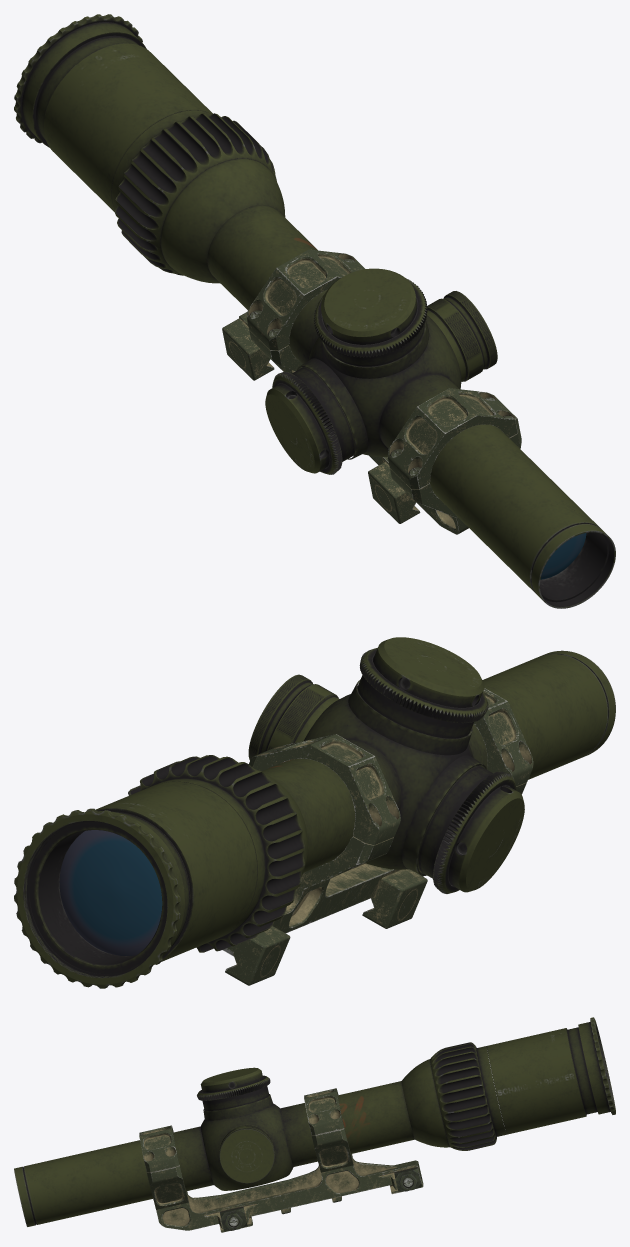
File: schmidt__bender_1-8x_camo.glb
3 views of the same model, one above another, from view 1: azimuth 30°, elevation 25°; view 2: azimuth 150°, elevation 25°; view 3: azimuth 270°, elevation 25° (orthographic). The views are drawn at different scales.
Visible parts, largest first — view 1: mainLow, cryPres.002, midRegulatorLow, upRollerLow, rollerMainLow, backOcularLow, lowRoller, Lensens; view 2: mainLow, cryPres.002, backOcularLow, midRegulatorLow, upRollerLow, Lensens, rollerMainLow, lowRoller; view 3: mainLow, cryPres.002, midRegulatorLow, backOcularLow, lowRoller, rollerMainLow, upRollerLow, cryPresPart.002.
Part boxes in pixels (x1,y1,x2,y2): mainLow: (43,43,615,608); cryPres.002: (222,249,521,534); midRegulatorLow: (111,110,276,275); upRollerLow: (265,268,417,473); rollerMainLow: (272,278,427,474); backOcularLow: (14,14,146,147); lowRoller: (427,291,497,381); Lensens: (540,533,586,579); mainLow: (95,650,615,961); cryPres.002: (225,688,533,985); backOcularLow: (14,808,190,988); midRegulatorLow: (128,755,304,952); upRollerLow: (373,637,524,892); Lensens: (59,830,162,955); rollerMainLow: (357,648,516,893); lowRoller: (248,674,339,760); mainLow: (14,1028,586,1226); cryPres.002: (139,1088,423,1232); midRegulatorLow: (430,1042,506,1150); backOcularLow: (567,1017,615,1114); lowRoller: (219,1125,274,1183); rollerMainLow: (197,1075,270,1110); upRollerLow: (200,1067,263,1092); cryPresPart.002: (220,1167,421,1231).
Bounding box in the file's own units: 1.36 × 1.92 × 5.26.
Materials: 6 (6 with a texture image).
